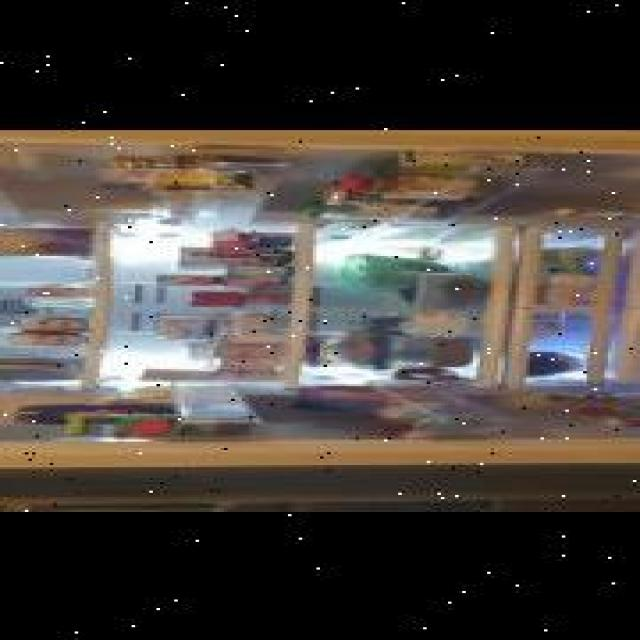mayonaise: (100, 166, 260, 188)
yogurt: (13, 330, 90, 342), (21, 316, 89, 328)
